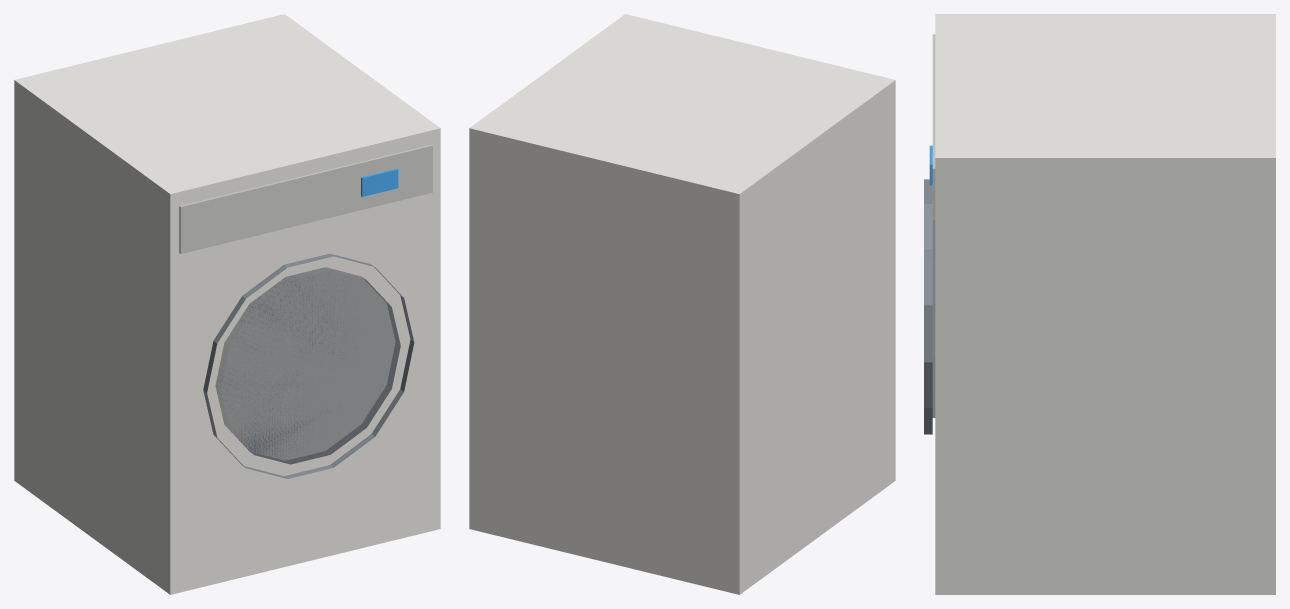
The model's file is Washer.obj.
3 views of the same model, side by side, from view 1: azimuth 30°, elevation 25°; view 2: azimuth 150°, elevation 25°; view 3: azimuth 270°, elevation 25° (orthographic). The views are drawn at different scales.
Parts seen in each view (by area): view 1: Washer; view 2: Washer; view 3: Washer.
Part boxes in pixels (x1=…): Washer: x1=14, y1=14, x2=440, y2=594; Washer: x1=469, y1=14, x2=895, y2=594; Washer: x1=924, y1=14, x2=1275, y2=594.
Size of the model in its own units: 0.6 by 0.85 by 0.62.
